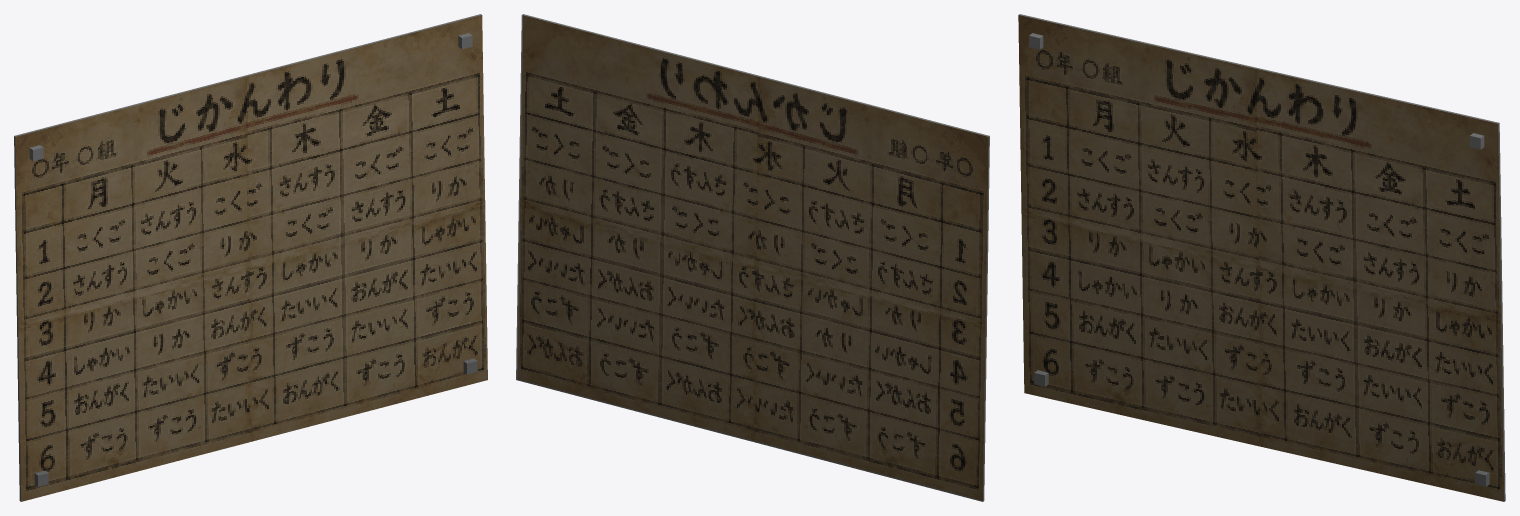
The model's file is prop_poster-jikanwari-0.glb.
3 views of the same model, side by side, from view 1: azimuth 30°, elevation 25°; view 2: azimuth 150°, elevation 25°; view 3: azimuth 330°, elevation 25° (orthographic). The views are drawn at different scales.
Visible parts, largest first — view 1: prop_poster-jikanwari-0; view 2: prop_poster-jikanwari-0; view 3: prop_poster-jikanwari-0.
Part boxes in pixels (<box>): prop_poster-jikanwari-0: <box>14,14,487,501</box>; prop_poster-jikanwari-0: <box>516,14,989,501</box>; prop_poster-jikanwari-0: <box>1018,14,1505,501</box>.
Bounding box in the file's own units: 0.6219 × 0.4708 × 0.0115.
Materials: 2 (2 with a texture image).
